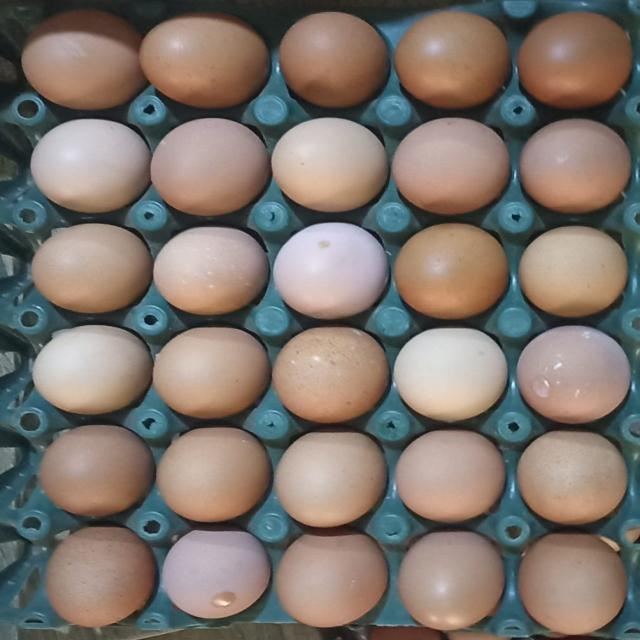Eggs: (24, 115, 148, 219), (517, 8, 637, 115), (143, 7, 271, 107), (32, 224, 153, 328), (397, 8, 512, 115), (396, 119, 511, 226), (18, 7, 140, 107), (156, 118, 269, 224), (395, 224, 514, 324), (274, 224, 390, 326), (520, 328, 636, 429), (403, 532, 511, 640), (276, 116, 388, 220), (278, 327, 392, 428), (278, 535, 392, 636), (517, 534, 632, 634), (277, 430, 390, 530), (279, 11, 390, 112), (34, 330, 152, 424), (162, 426, 272, 526), (34, 534, 158, 622), (521, 223, 632, 321), (398, 432, 511, 528), (41, 429, 156, 521), (520, 123, 634, 215), (156, 332, 271, 422), (400, 331, 510, 424), (159, 230, 269, 322), (169, 531, 275, 625), (520, 434, 630, 521)
